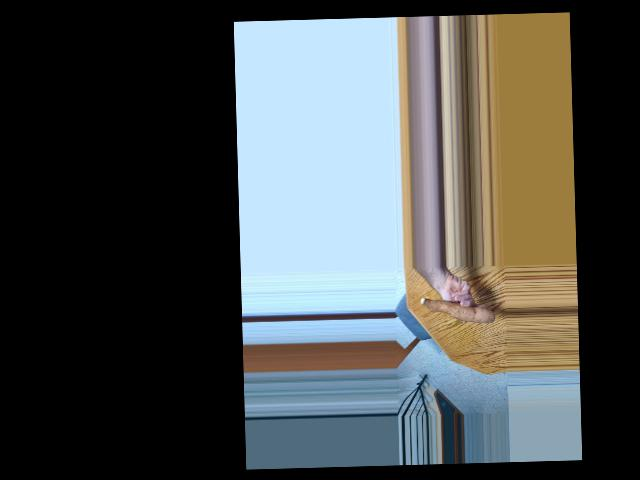sweet_potato: (421, 291, 493, 328)
